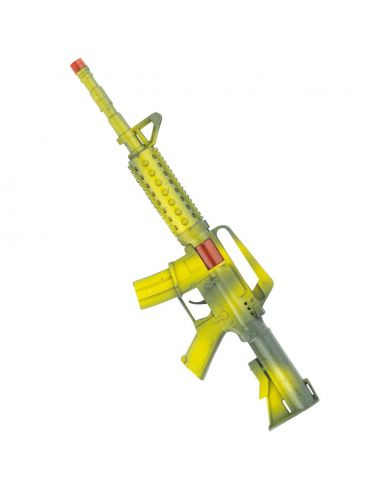Arma Falsa: (69, 60, 320, 432)
